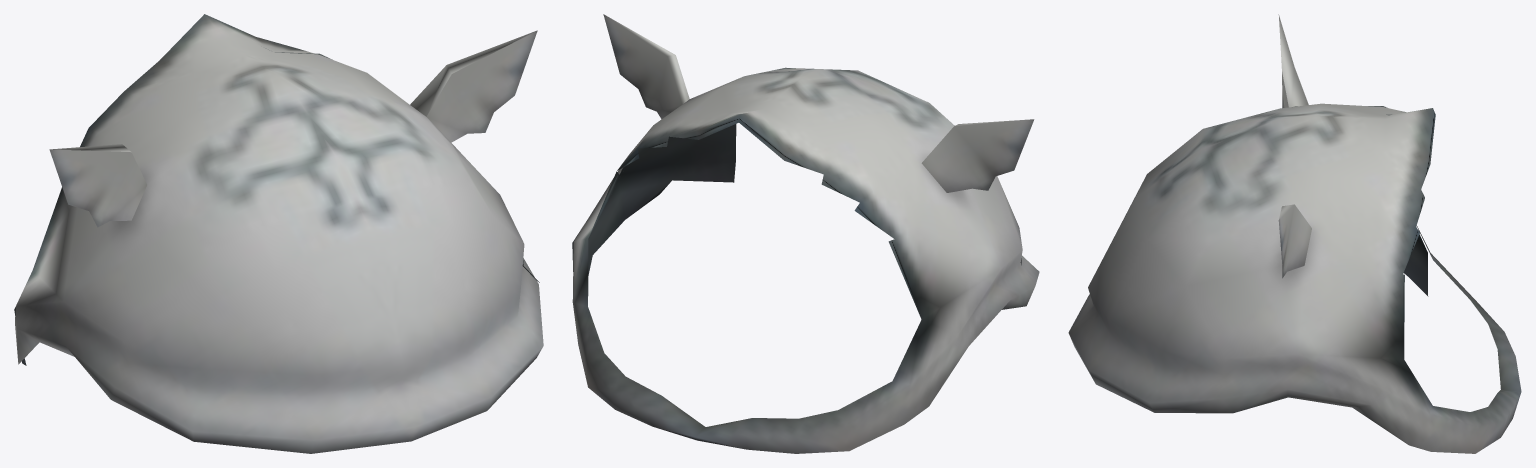
File: templarHood.glb
3 renders of one model, left to right at view 1: azimuth 30°, elevation 25°; view 2: azimuth 150°, elevation 25°; view 3: azimuth 270°, elevation 25°, orthographic. The views are drawn at different scales.
Parts seen in each view (by area): view 1: templarHood; view 2: templarHood; view 3: templarHood.
Part boxes in pixels (left/top/right/bottom): templarHood: left=14, top=14, right=543, bottom=453; templarHood: left=572, top=14, right=1039, bottom=453; templarHood: left=1068, top=14, right=1521, bottom=453.
Bounding box in the file's own units: 2 × 1.3 × 1.85.
1 material, 1 textured.
